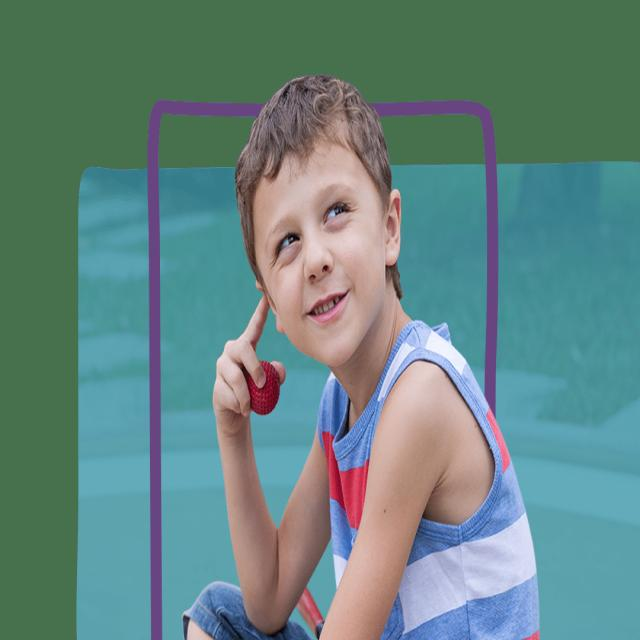child: (174, 72, 541, 640)
